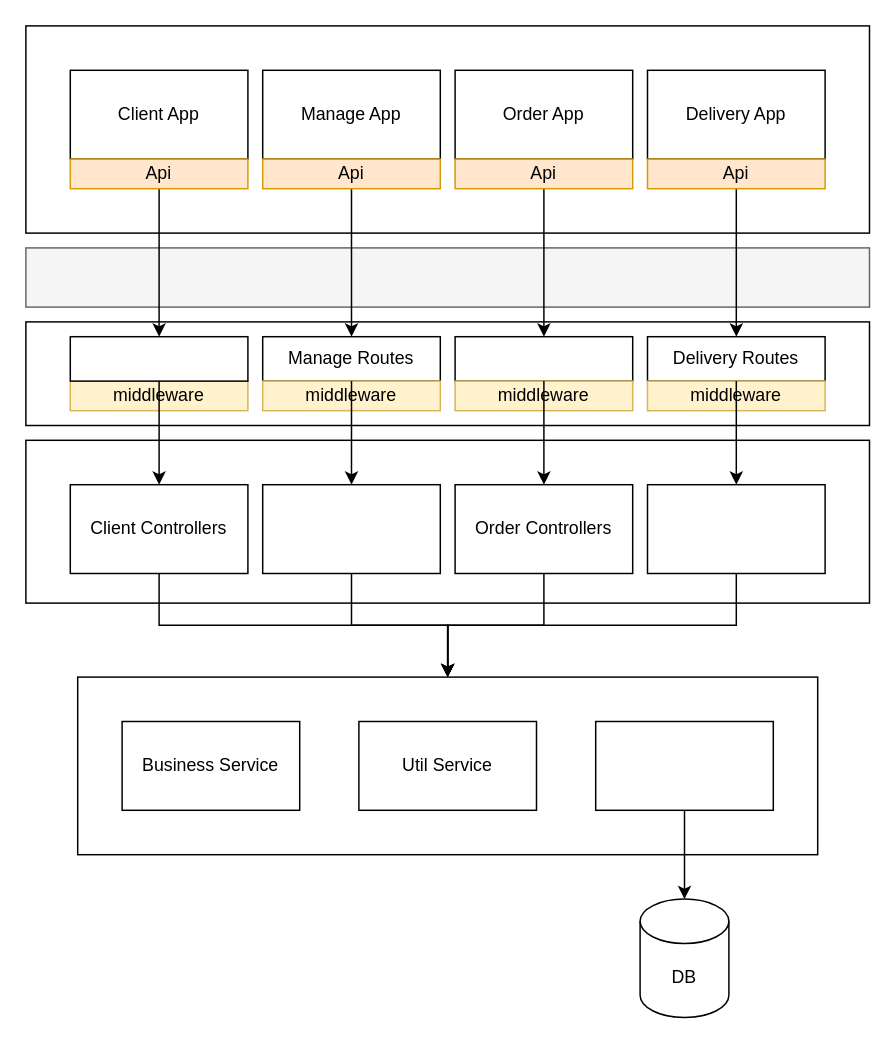
Image size: 895x1043. Some labels were removed from this diagram. The shapes that lost their labels are listed below. From the top down, each one's centre as x and y in pixels, then its label:
At (447,276): "Middlerwares".
At (158,358): "Client Routes".
At (543,358): "Order Routes".
At (350,528): "Manage Controllers".
At (735,528): "Delivery Controllers".
At (683,765): "DB Service".
